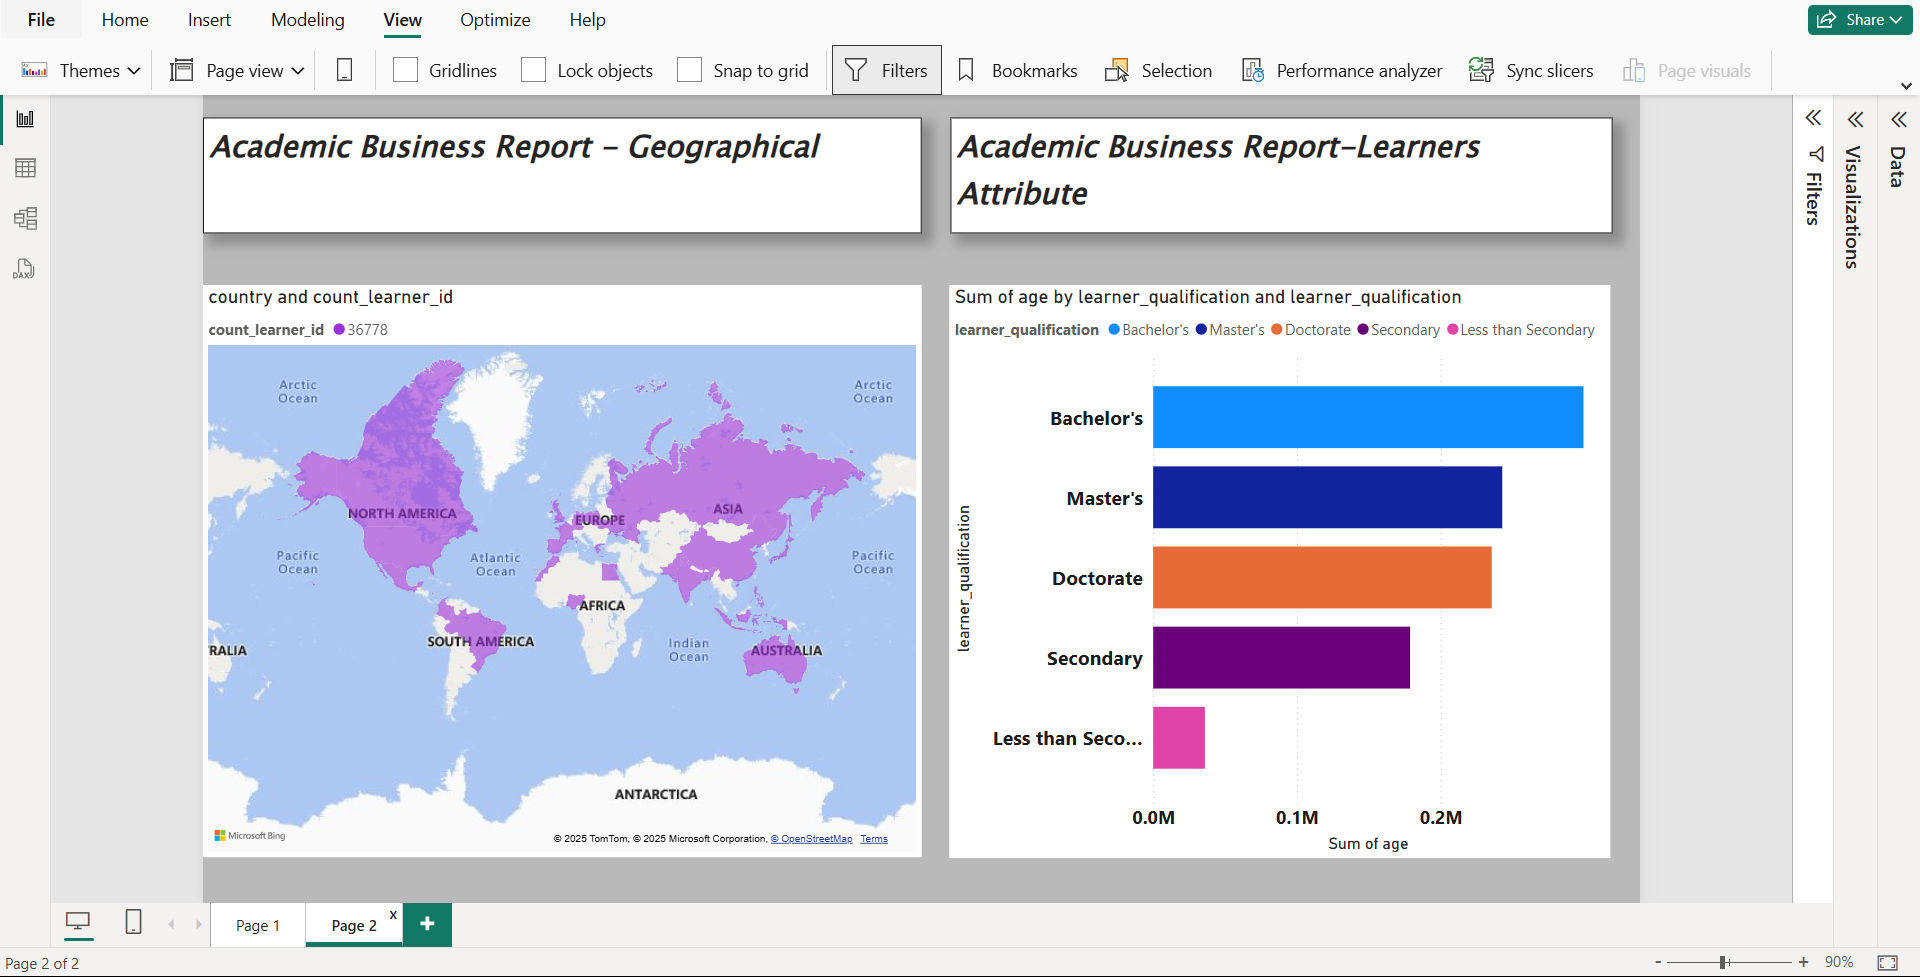

What the dashboard file says about the page in this screenshot:
{"tool":"powerbi","page":{"name":"Page 2","canvas":[1280,720],"ordinal":1},"visuals":[{"type":"textbox","box":[0,20.3,640,103.3],"z":0},{"type":"filledMap","fields":{"Category":["PART-A DATASET edx.country"],"Series":["PART-A DATASET edx.count_learner_id"]},"box":[0,169.3,640,509.6],"z":1000},{"type":"textbox","box":[665.4,20.3,589.2,103.3],"z":2000},{"type":"barChart","fields":{"Y":["Sum(PART-A DATASET edx.age)"],"Category":["PART-A DATASET edx.learner_qualification"],"Series":["PART-A DATASET edx.learner_qualification"]},"box":[665,169,589,510],"z":3000}]}

Visuals, with their boxes on the page's 1280x720 design canvas (x1, y1, x2, y2). These are canvas units, not pixel positions in the 1920x977 screenshot, which may show the page scaled, cropped or inside an application window:
textbox: [x1=0, y1=20, x2=640, y2=124]
filledMap - PART-A DATASET edx.country x PART-A DATASET edx.count_learner_id: [x1=0, y1=169, x2=640, y2=679]
textbox: [x1=665, y1=20, x2=1255, y2=124]
barChart - Sum(PART-A DATASET edx.age) x PART-A DATASET edx.learner_qualification: [x1=665, y1=169, x2=1254, y2=679]
